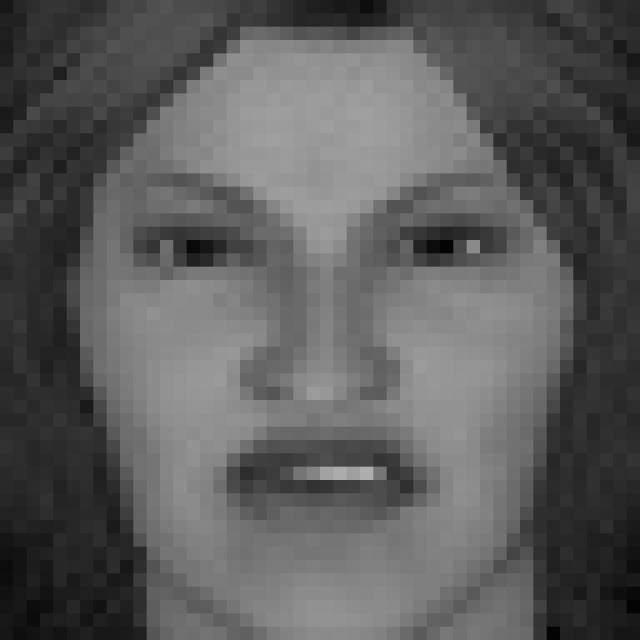disgust: (117, 166, 521, 538)
